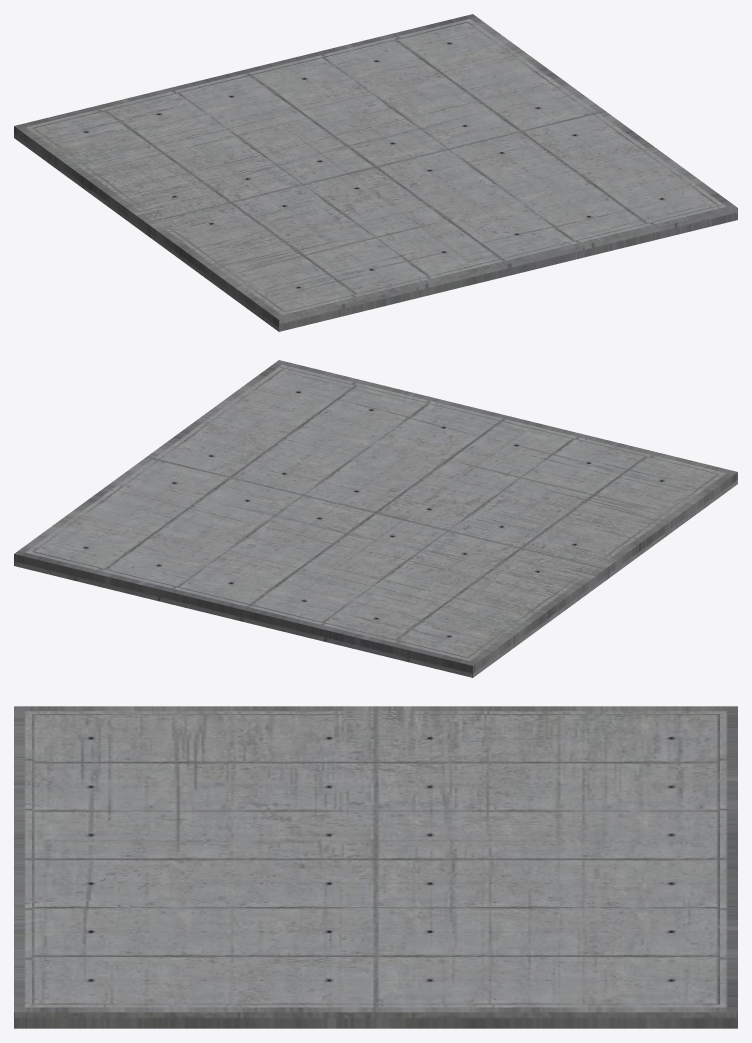
The model's file is Grill.fbx.
3 renders of one model, top to bottom at view 1: azimuth 30°, elevation 25°; view 2: azimuth 150°, elevation 25°; view 3: azimuth 270°, elevation 25°, orthographic. The views are drawn at different scales.
Parts seen in each view (by area): view 1: Cube.002; view 2: Cube.002; view 3: Cube.002.
Part boxes in pixels (x1,y1,x2,y2): Cube.002: [14, 14, 737, 331]; Cube.002: [14, 360, 737, 677]; Cube.002: [14, 706, 737, 1028].
Size of the model in its own units: 200 by 5 by 200.
